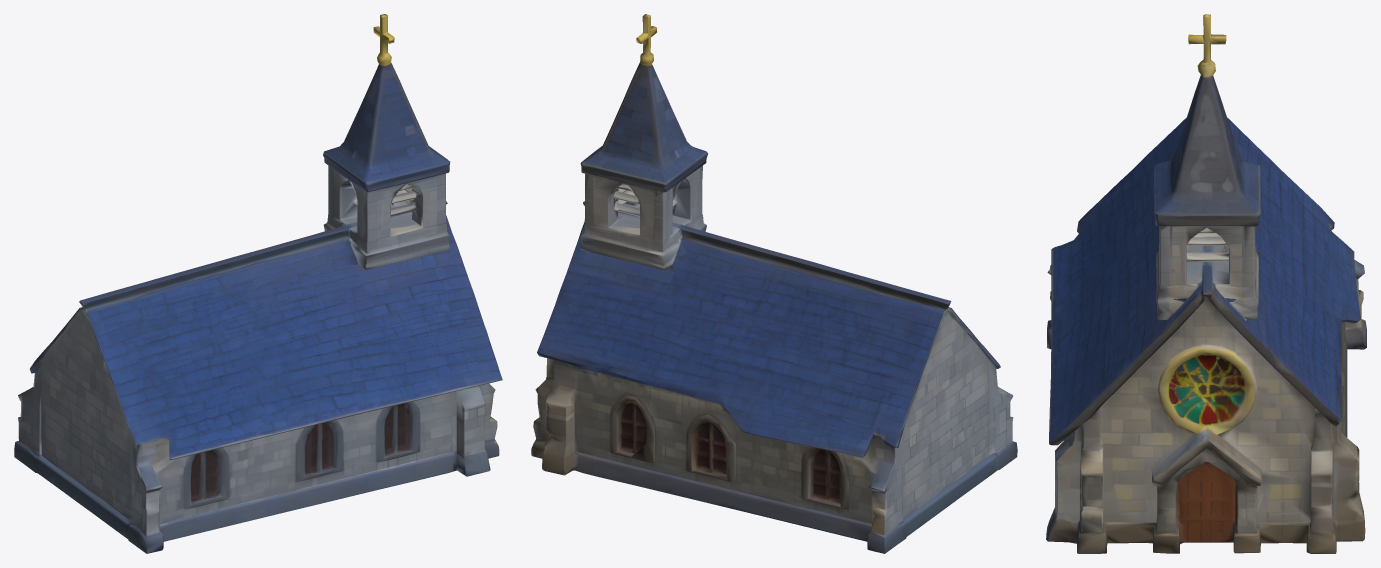
Rendered from church-tripo-original.glb.
3 views of the same model, side by side, from view 1: azimuth 30°, elevation 25°; view 2: azimuth 150°, elevation 25°; view 3: azimuth 270°, elevation 25° (orthographic). The views are drawn at different scales.
Visible parts, largest first — view 1: tripo_node_ae57aab1-9114-4da3-9635-8fa652215833; view 2: tripo_node_ae57aab1-9114-4da3-9635-8fa652215833; view 3: tripo_node_ae57aab1-9114-4da3-9635-8fa652215833.
Part boxes in pixels (bbox=[...]): tripo_node_ae57aab1-9114-4da3-9635-8fa652215833: bbox=[14, 14, 502, 553]; tripo_node_ae57aab1-9114-4da3-9635-8fa652215833: bbox=[531, 14, 1017, 553]; tripo_node_ae57aab1-9114-4da3-9635-8fa652215833: bbox=[1046, 14, 1366, 553].
Bounding box in the file's own units: 0.9237 × 0.9999 × 0.5777.
Materials: 1 (1 with a texture image).
